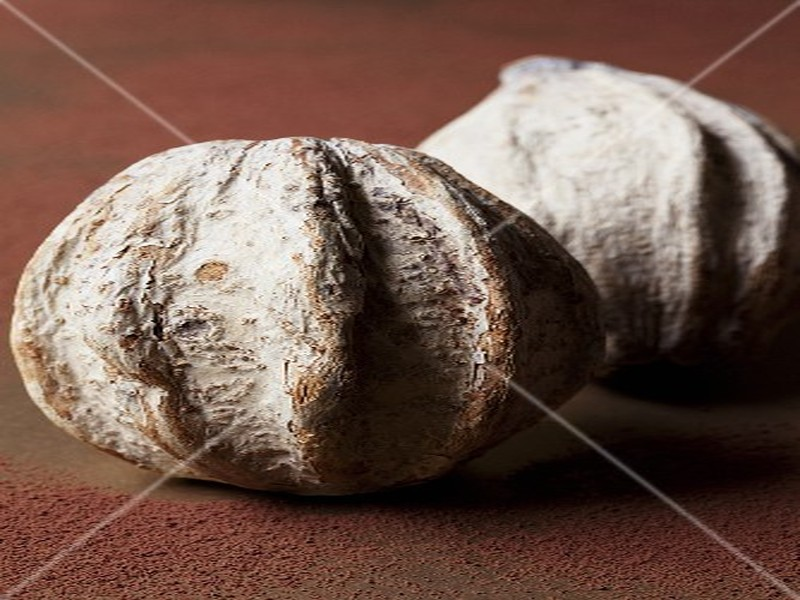Cacaopod: (9, 135, 608, 495), (412, 53, 797, 403)
